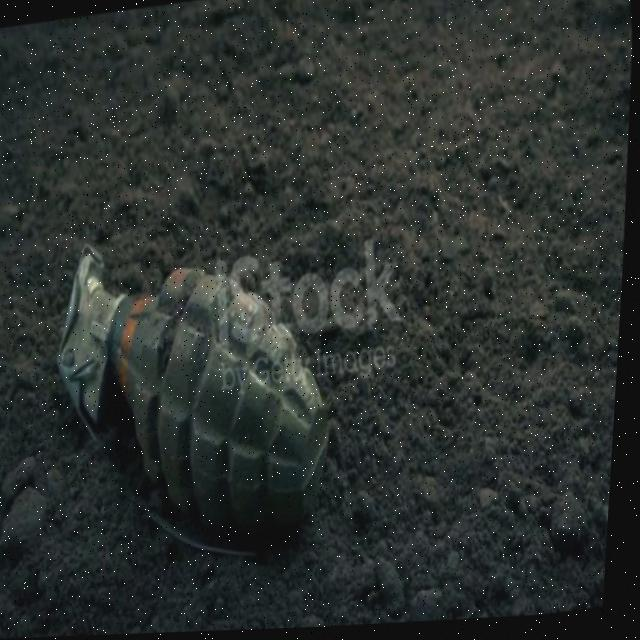grenade: (35, 196, 359, 592)
